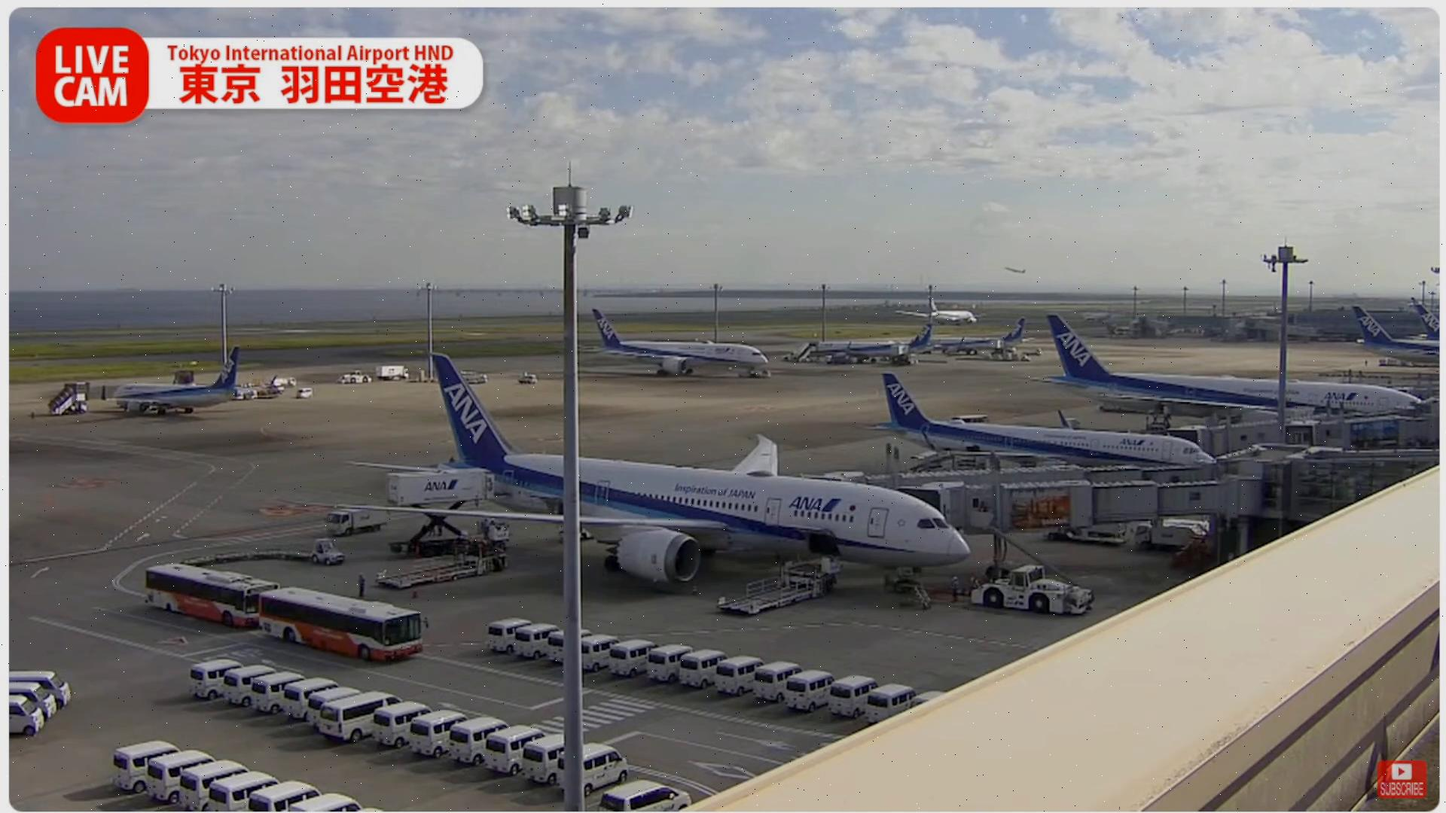APS: (969, 564, 1106, 619)
Aerobridge: (899, 476, 1264, 540), (843, 457, 1217, 496)
Airplane: (330, 354, 973, 599)
Baggage truck: (324, 504, 398, 540)
Catering: (383, 475, 497, 555)
Dolly: (180, 547, 312, 566)
JCPL: (699, 546, 848, 617), (383, 526, 526, 590)
Tractor: (314, 535, 344, 567)
Window: (1290, 456, 1440, 523)
